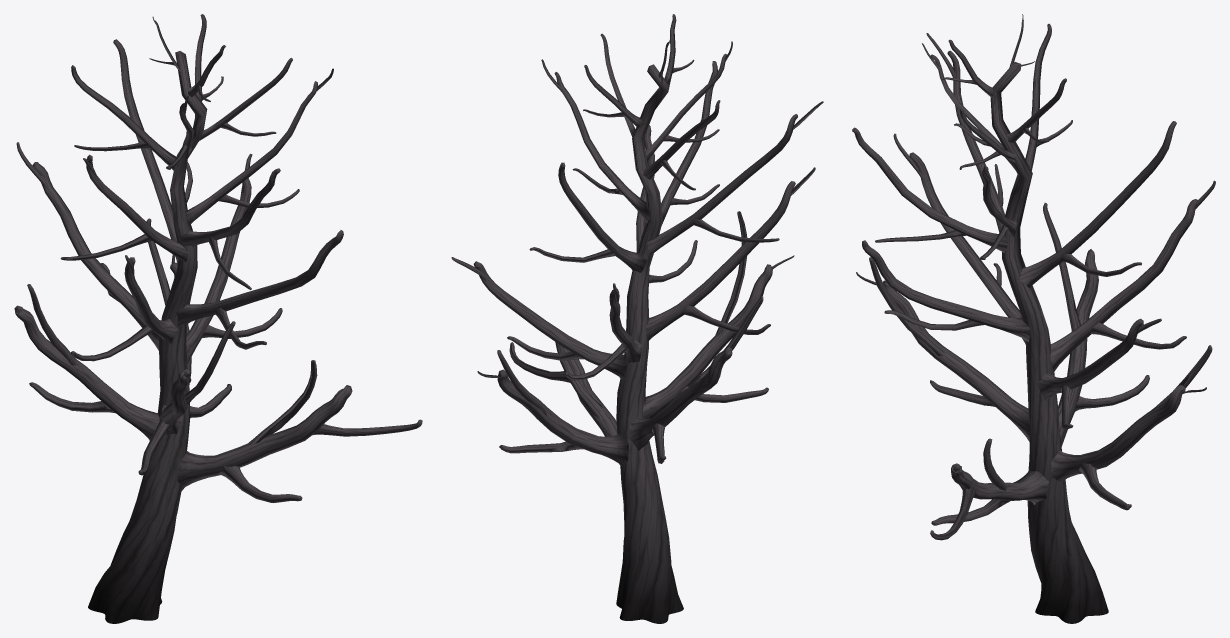
File: deadtree_2.gltf
The picture shows the model from 3 angles, left to right: view 1: azimuth 30°, elevation 25°; view 2: azimuth 150°, elevation 25°; view 3: azimuth 270°, elevation 25°; orthographic projection. The views are drawn at different scales.
Visible parts, largest first — view 1: DeadTree_2; view 2: DeadTree_2; view 3: DeadTree_2.
Part boxes in pixels (x1,y1,x2,y2): DeadTree_2: [14, 14, 422, 623]; DeadTree_2: [451, 14, 823, 623]; DeadTree_2: [852, 14, 1215, 623].
Bounding box in the file's own units: 6.73 × 11.49 × 6.38.
1 material, 1 textured.
